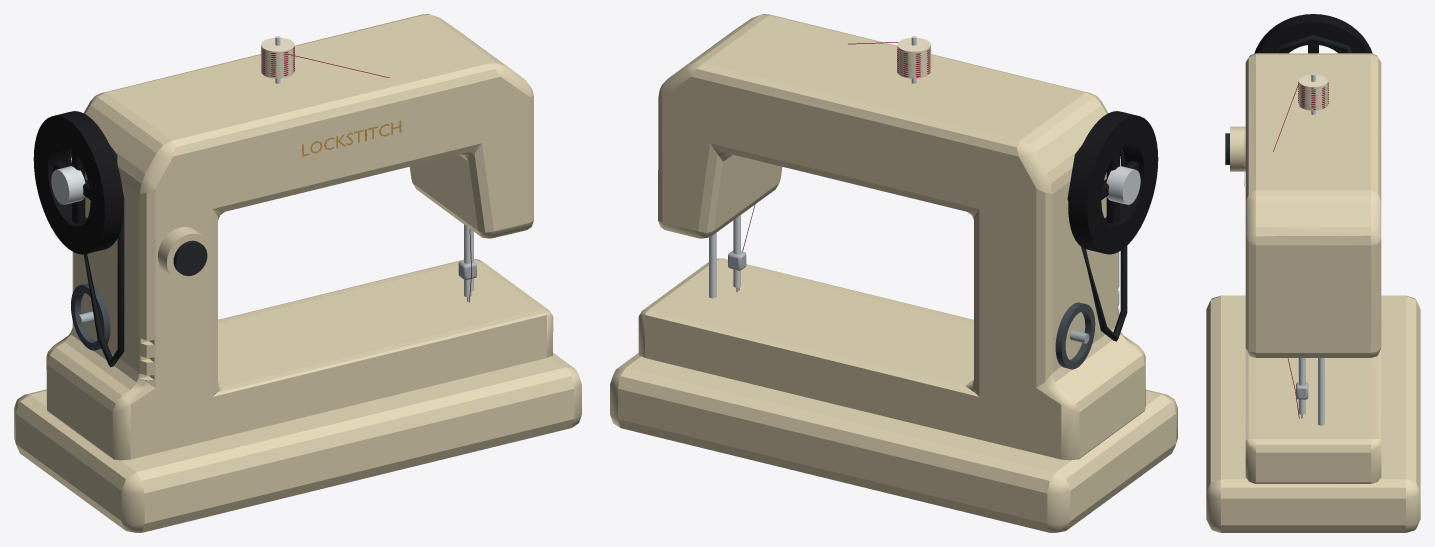
The model's file is 07_Sewing_Machine.glb.
3 renders of one model, left to right at view 1: azimuth 30°, elevation 25°; view 2: azimuth 150°, elevation 25°; view 3: azimuth 270°, elevation 25°, orthographic. The views are drawn at different scales.
Visible parts, largest first — view 1: 01_cast_housing_and_base, 03_handwheel_and_drive_belt, 02_presser_plate_and_controls, 09_electric_motor, 05_needle_bar_and_thread; view 2: 01_cast_housing_and_base, 03_handwheel_and_drive_belt, 02_presser_plate_and_controls, 09_electric_motor, 05_needle_bar_and_thread; view 3: 01_cast_housing_and_base, 03_handwheel_and_drive_belt, 02_presser_plate_and_controls, 05_needle_bar_and_thread.
Boxes of the visible parts, box(x1,y1,x2,y2) form: 01_cast_housing_and_base: box(14, 14, 581, 532); 03_handwheel_and_drive_belt: box(33, 111, 124, 367); 02_presser_plate_and_controls: box(157, 36, 473, 291); 09_electric_motor: box(71, 283, 110, 350); 05_needle_bar_and_thread: box(286, 53, 476, 302); 01_cast_housing_and_base: box(610, 14, 1177, 532); 03_handwheel_and_drive_belt: box(1067, 111, 1158, 341); 02_presser_plate_and_controls: box(709, 36, 930, 298); 09_electric_motor: box(1055, 302, 1095, 369); 05_needle_bar_and_thread: box(728, 42, 898, 292); 01_cast_housing_and_base: box(1206, 53, 1420, 532); 03_handwheel_and_drive_belt: box(1254, 14, 1372, 53); 02_presser_plate_and_controls: box(1225, 73, 1328, 425); 05_needle_bar_and_thread: box(1273, 83, 1308, 418).
Bounding box in the file's own units: 0.4175 × 0.35 × 0.19.
